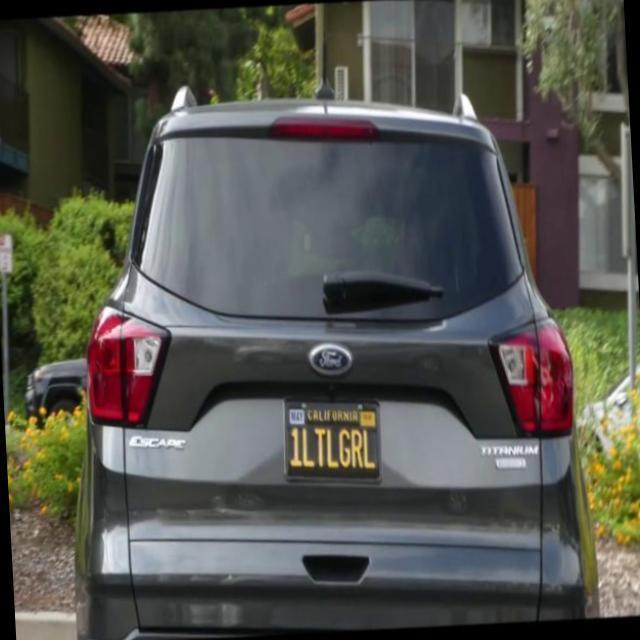license_plate: (284, 392, 388, 484)
